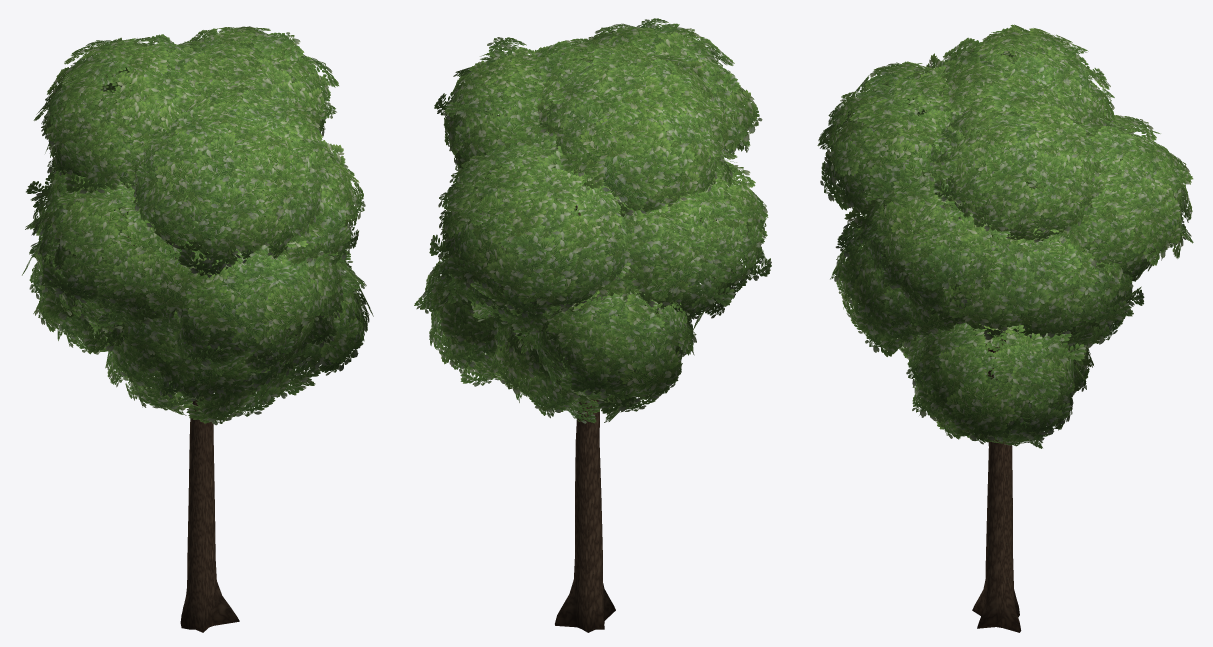
Rendered from sundari_c.glb.
The picture shows the model from 3 angles, left to right: view 1: azimuth 30°, elevation 25°; view 2: azimuth 150°, elevation 25°; view 3: azimuth 270°, elevation 25°; orthographic projection. The views are drawn at different scales.
Visible parts, largest first — view 1: leaves, wood; view 2: leaves, wood; view 3: leaves, wood.
Boxes of the visible parts, x1,y1,x2,y2 form: leaves: (22, 26, 373, 425); wood: (127, 221, 239, 632); leaves: (414, 18, 771, 423); wood: (555, 205, 615, 632); leaves: (817, 24, 1193, 448); wood: (972, 205, 1044, 632).
Bounding box in the file's own units: 9.82 × 16.63 × 10.32.
Materials: 2 (2 with a texture image).
